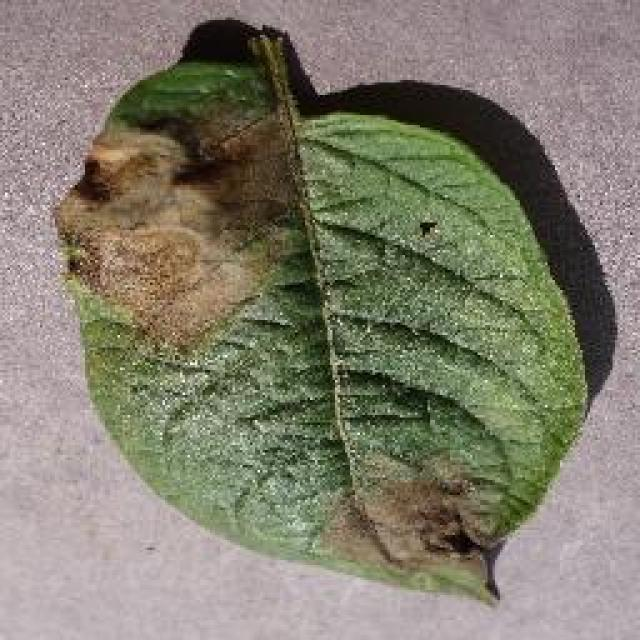Late_blight: (38, 89, 580, 607)
